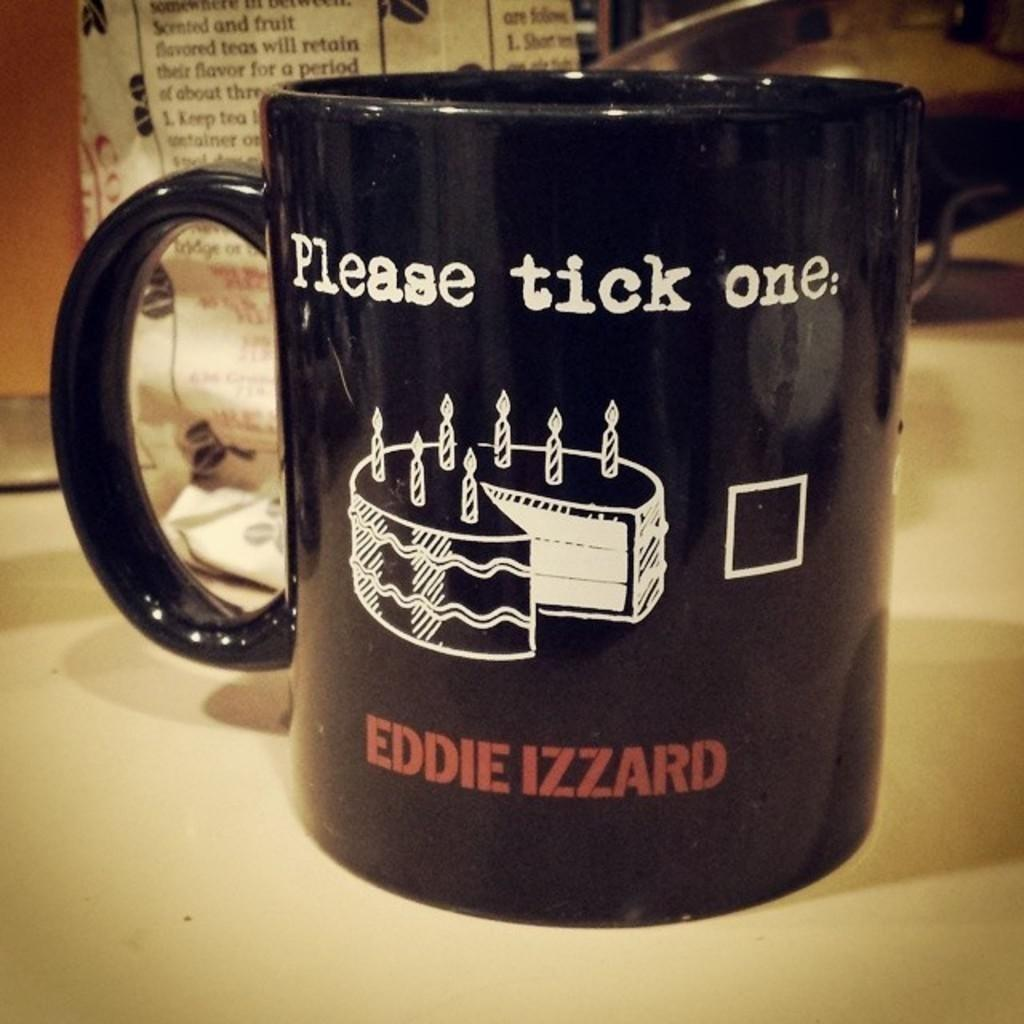cup-handle: (50, 63, 927, 930)
